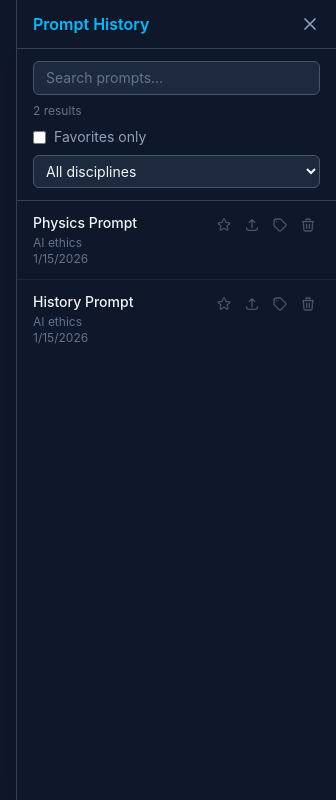
Test: PromptHistory — enhanced search › filters records by discipline
Select "Physics" in the dropdown named "filter by discipline" at [176, 172], box x1=33 y1=155 x2=320 y2=188
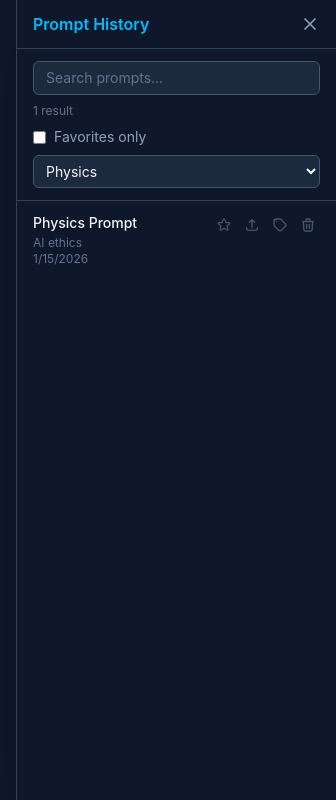
Expected: the text "Physics Prompt" is shown, x1=33 y1=214 x2=137 y2=231
Expected: the text "History Prompt" is gone
